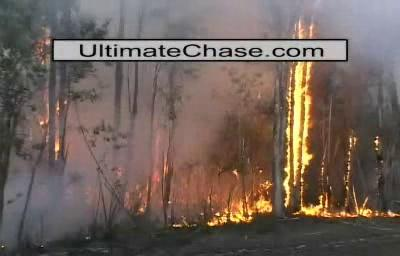fire: (288, 64, 313, 193)
smoke: (76, 92, 219, 164), (128, 4, 260, 40), (15, 167, 85, 229)
